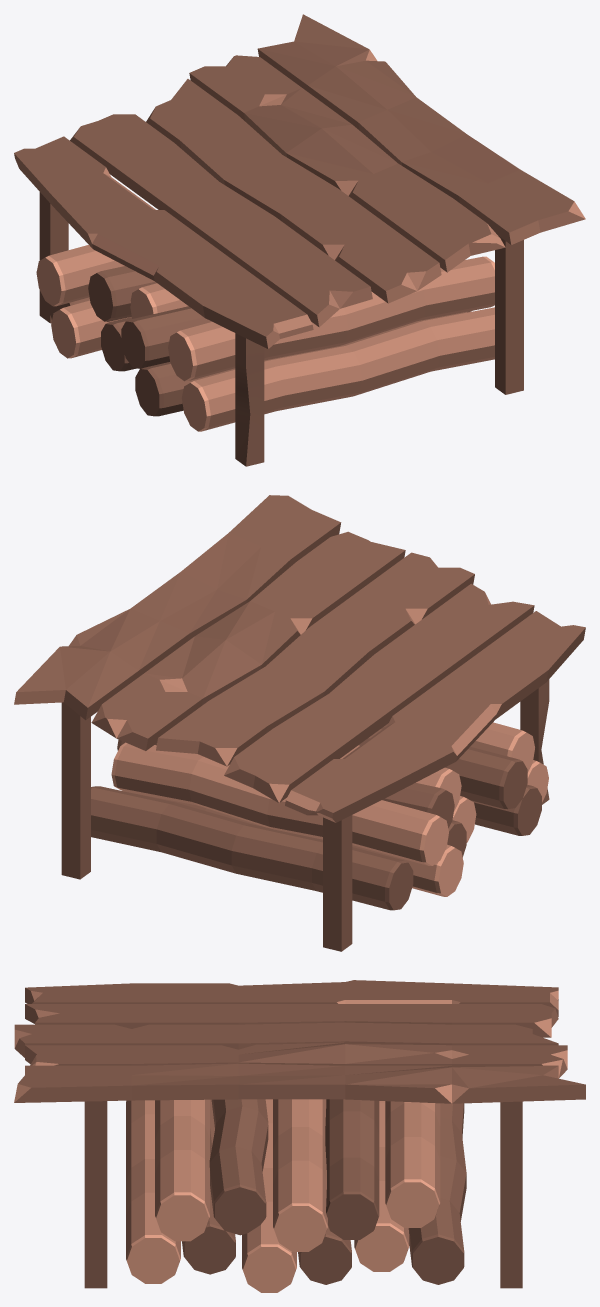
Rendered from 067 Wood_Shed.FBX.
The picture shows the model from 3 angles, top to bottom: view 1: azimuth 30°, elevation 25°; view 2: azimuth 150°, elevation 25°; view 3: azimuth 270°, elevation 25°; orthographic projection. The views are drawn at different scales.
Visible parts, largest first — view 1: Box414, Cylinder342, Cylinder348, Cylinder352, Cylinder349, Cylinder343, Cylinder346, Cylinder351, Cylinder350, Cylinder345; view 2: Box414, Cylinder347, Cylinder352, Cylinder349, Cylinder346, Cylinder343, Cylinder348, Cylinder351, Cylinder350, Cylinder344; view 3: Box414, Cylinder350, Cylinder348, Cylinder351, Cylinder349, Cylinder352, Cylinder342, Cylinder347, Cylinder344, Cylinder346, Cylinder343, Cylinder345.
Part boxes in pixels (bbox=[...]): Box414: bbox=[14, 14, 585, 466]; Cylinder342: bbox=[181, 307, 494, 431]; Cylinder348: bbox=[168, 256, 494, 381]; Cylinder352: bbox=[36, 245, 124, 306]; Cylinder349: bbox=[121, 306, 211, 368]; Cylinder343: bbox=[135, 312, 467, 416]; Cylinder346: bbox=[51, 300, 130, 358]; Cylinder351: bbox=[88, 266, 156, 321]; Cylinder350: bbox=[130, 283, 188, 318]; Cylinder345: bbox=[101, 317, 136, 371]; Box414: bbox=[14, 495, 585, 951]; Cylinder347: bbox=[91, 786, 413, 910]; Cylinder352: bbox=[111, 742, 448, 865]; Cylinder349: bbox=[359, 727, 527, 809]; Cylinder346: bbox=[132, 793, 463, 896]; Cylinder343: bbox=[471, 784, 541, 835]; Cylinder348: bbox=[384, 722, 534, 772]; Cylinder351: bbox=[117, 739, 454, 828]; Cylinder350: bbox=[340, 745, 461, 811]; Cylinder344: bbox=[452, 796, 476, 842]; Box414: bbox=[14, 980, 585, 1288]; Cylinder350: bbox=[273, 1099, 327, 1251]; Cylinder348: bbox=[155, 1099, 209, 1241]; Cylinder351: bbox=[325, 1099, 379, 1239]; Cylinder349: bbox=[209, 1099, 268, 1235]; Cylinder352: bbox=[385, 1101, 440, 1227]; Cylinder342: bbox=[126, 1100, 180, 1283]; Cylinder347: bbox=[408, 1103, 466, 1284]; Cylinder344: bbox=[242, 1099, 296, 1292]; Cylinder346: bbox=[354, 1101, 409, 1271]; Cylinder343: bbox=[182, 1099, 235, 1274]; Cylinder345: bbox=[298, 1226, 351, 1284].
Size of the model in its own units: 248 by 142 by 330.
